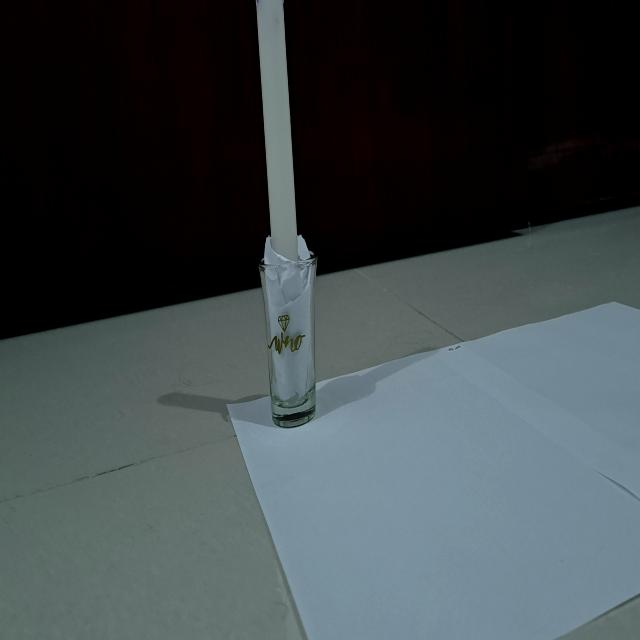candle: (245, 0, 334, 431)
